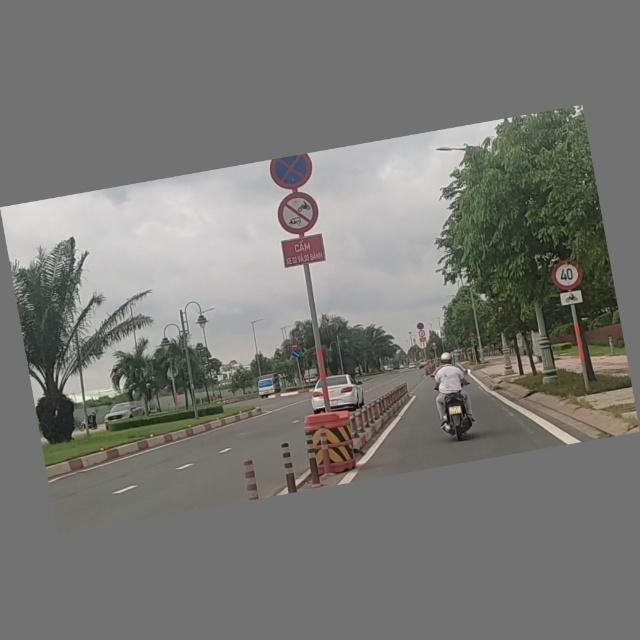P.111: (273, 188, 322, 239)
P.127*40: (550, 258, 584, 293)
S.505a*Xe may: (558, 288, 585, 307)
